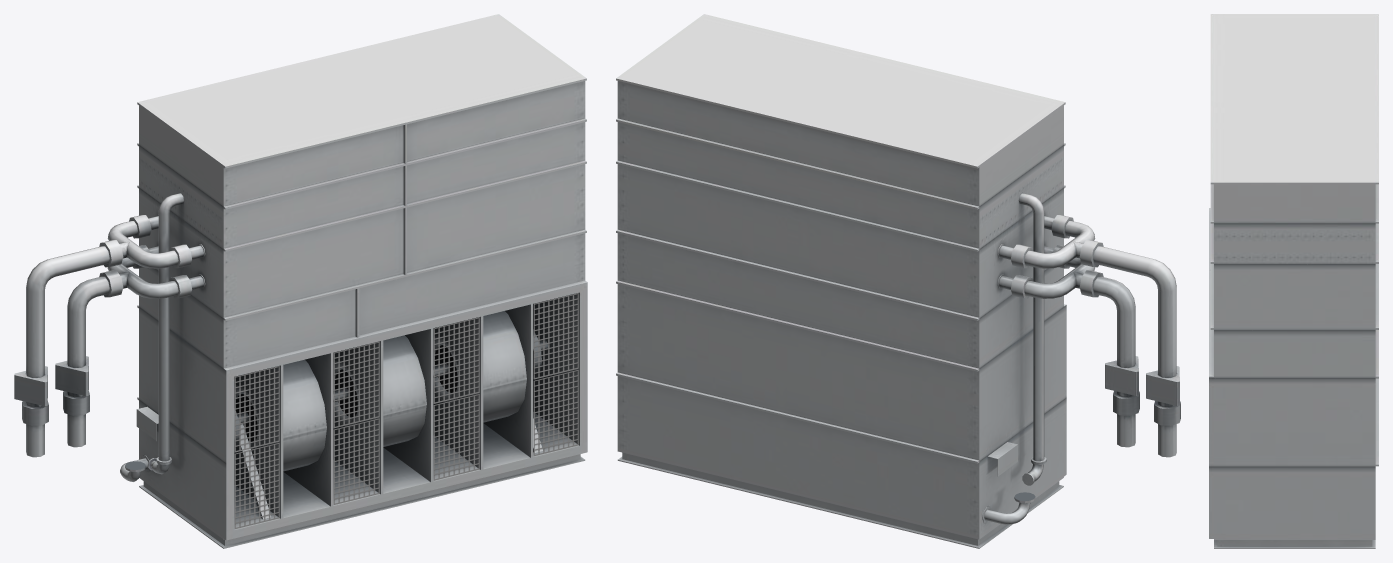
Rendered from CoolingTower03.gltf.
3 renders of one model, left to right at view 1: azimuth 30°, elevation 25°; view 2: azimuth 150°, elevation 25°; view 3: azimuth 270°, elevation 25°, orthographic. The views are drawn at different scales.
Visible parts, largest first — view 1: Coolingtower, Line2_A; view 2: Coolingtower; view 3: Coolingtower.
Boxes of the visible parts, x1=… form: Coolingtower: x1=14, y1=14, x2=587, y2=548; Line2_A: x1=234, y1=293, x2=578, y2=528; Coolingtower: x1=616, y1=14, x2=1180, y2=548; Coolingtower: x1=1209, y1=14, x2=1378, y2=548.
Bounding box in the file's own units: 52.93 × 37 × 15.55.
Materials: 2 (2 with a texture image).
